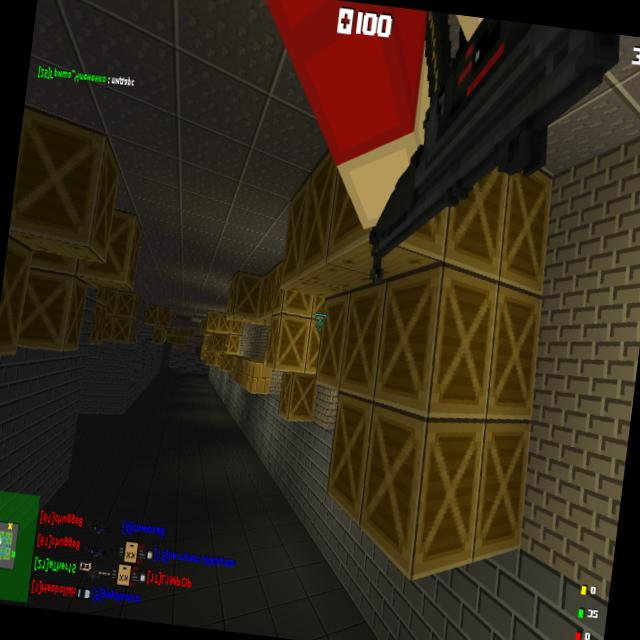enemy: (162, 326, 168, 344)
